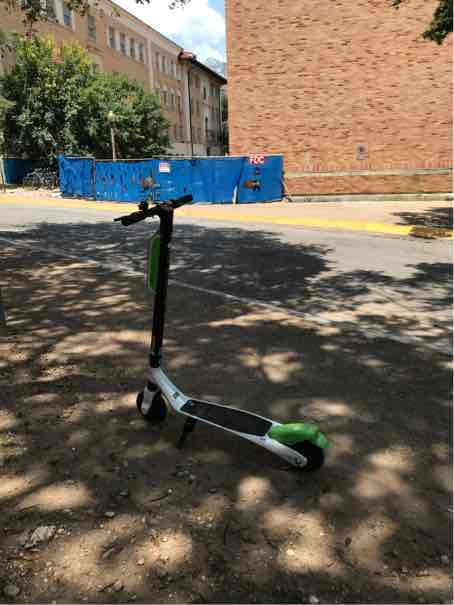scooter: (94, 194, 350, 472)
